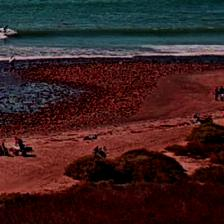surfer: (3, 26, 8, 32)
